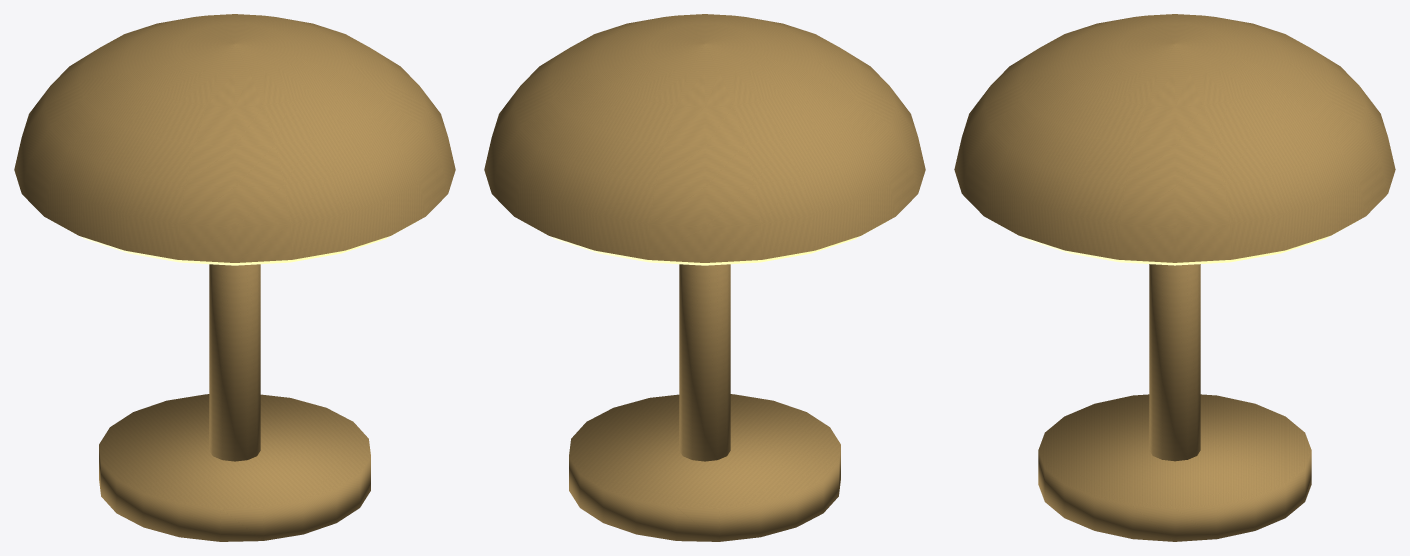
The model's file is desk_lamp.glb.
3 views of the same model, side by side, from view 1: azimuth 30°, elevation 25°; view 2: azimuth 150°, elevation 25°; view 3: azimuth 270°, elevation 25° (orthographic).
Parts seen in each view (by area): view 1: Mushroom hemisphere shade, Mushroom lamp foot, Mushroom brass column, Warm luminous underside; view 2: Mushroom hemisphere shade, Mushroom lamp foot, Mushroom brass column, Warm luminous underside; view 3: Mushroom hemisphere shade, Mushroom lamp foot, Mushroom brass column, Warm luminous underside.
Boxes of the visible parts, left/top/right/bottom form: Mushroom hemisphere shade: left=14, top=14, right=455, bottom=262; Mushroom lamp foot: left=99, top=394, right=370, bottom=541; Mushroom brass column: left=209, top=264, right=260, bottom=461; Warm luminous underside: left=52, top=221, right=417, bottom=265; Mushroom hemisphere shade: left=484, top=14, right=925, bottom=262; Mushroom lamp foot: left=569, top=394, right=840, bottom=541; Mushroom brass column: left=679, top=264, right=730, bottom=461; Warm luminous underside: left=522, top=221, right=887, bottom=265; Mushroom hemisphere shade: left=954, top=14, right=1395, bottom=262; Mushroom lamp foot: left=1038, top=394, right=1311, bottom=541; Mushroom brass column: left=1149, top=264, right=1200, bottom=461; Warm luminous underside: left=993, top=221, right=1356, bottom=265.
Size of the model in its own units: 0.38 by 0.4185 by 0.38.
2 materials, 1 textured.
